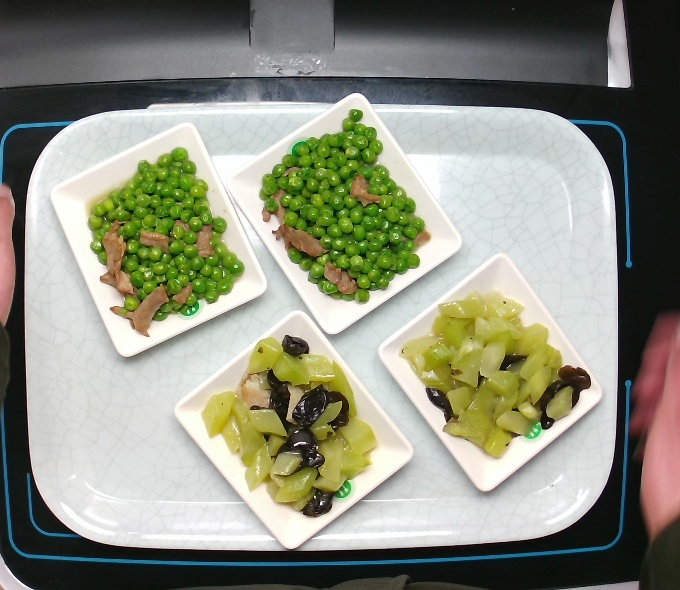wcq-CanDouRouSi: (253, 106, 429, 310), (79, 141, 239, 338)
wcq-WoSunKuai: (398, 284, 596, 462), (199, 327, 382, 518)
